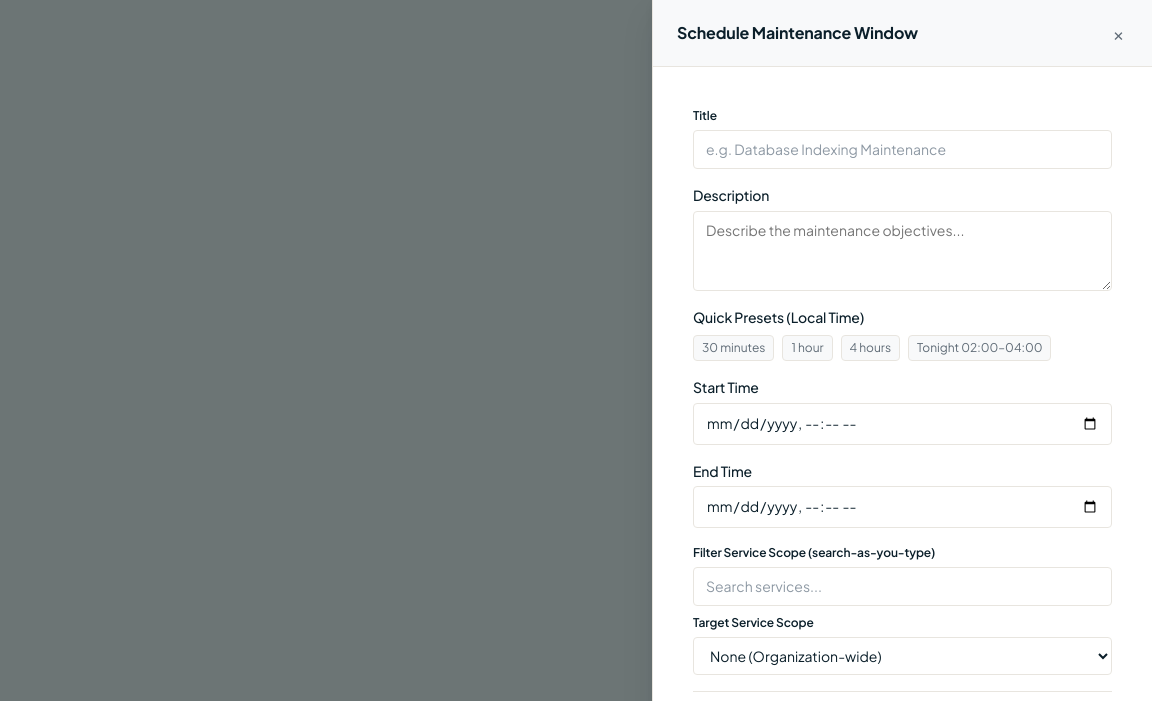
Test: Phase 6 — Maintenance Feature Integration & Compliance › validates start and end times in form and announces error via aria-live
Type "Emergency DB Patch" into the field labelled "Title".
click(902, 149); type("Emergency DB Patch")  # box [693, 130, 1112, 169]
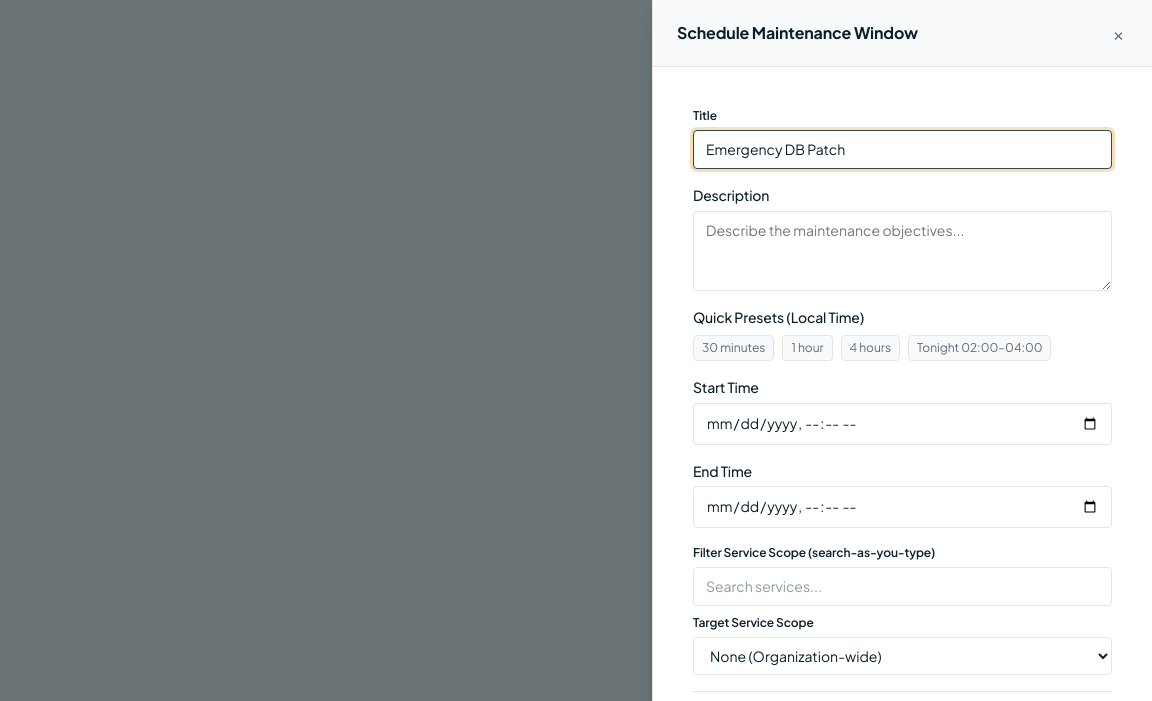
Type "2026-08-20T14:00" into the field labelled "Start Time".
click(902, 424); type("2026-08-20T14:00")  # box [693, 403, 1112, 445]
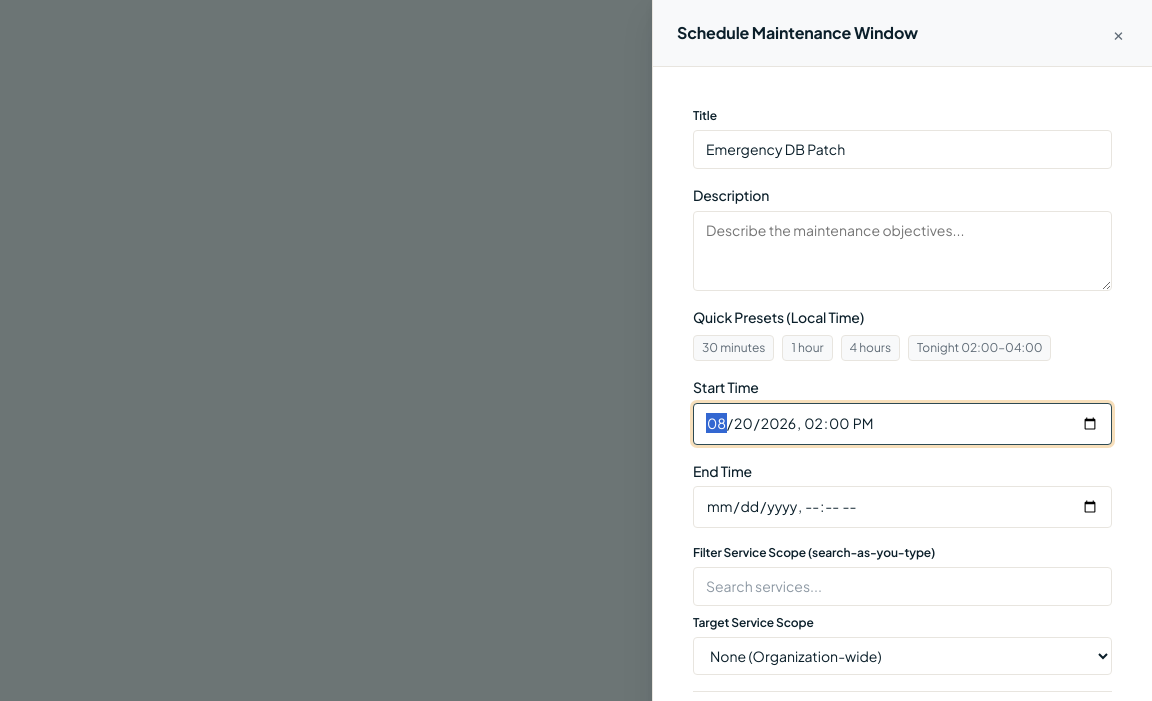
Type "2026-08-20T12:00" into the field labelled "End Time".
click(902, 507); type("2026-08-20T12:00")  # box [693, 486, 1112, 528]
(page scrolled)
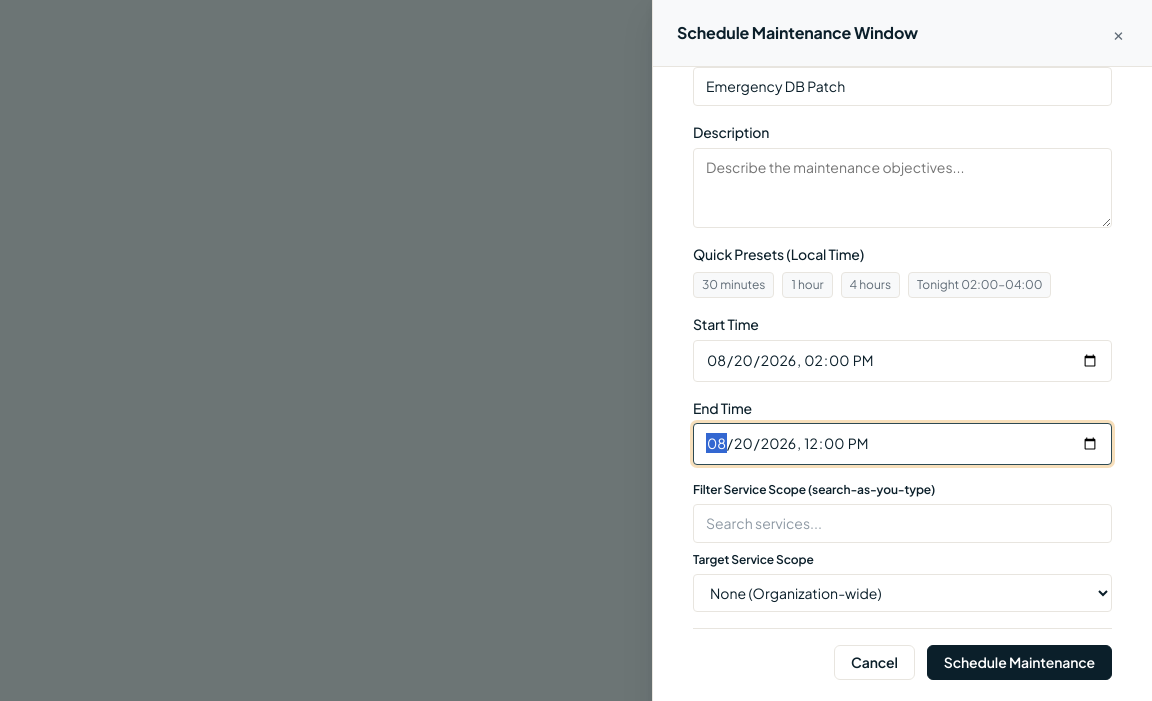
Click the button "Schedule Maintenance".
click(1019, 663)  # box [927, 645, 1112, 680]
(page scrolled)
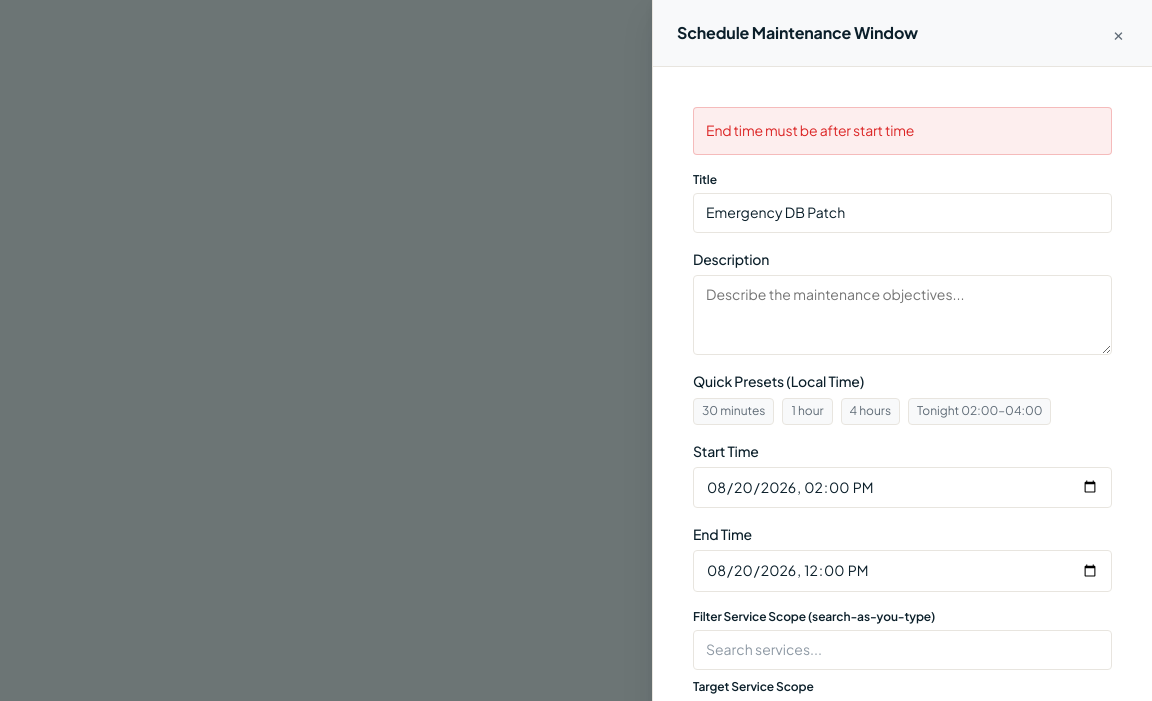
Check: the message "End time must be after start time" is shown, box [693, 107, 1112, 155]
Check: the message reads "End time must be after start time", box [706, 121, 914, 139]
